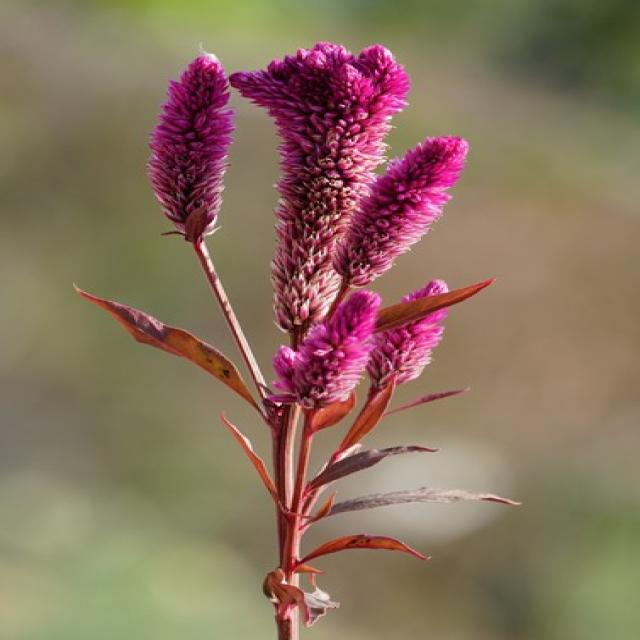Celosia-Argentea: (143, 41, 472, 416)
